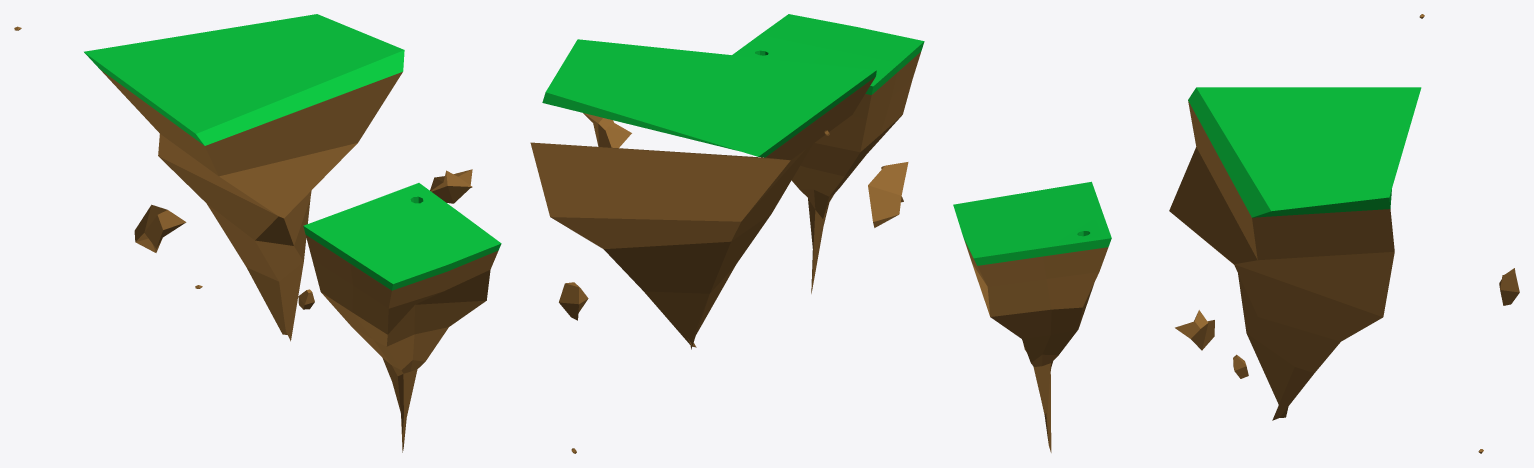
File: Floating Island.glb
The picture shows the model from 3 angles, left to right: view 1: azimuth 30°, elevation 25°; view 2: azimuth 150°, elevation 25°; view 3: azimuth 270°, elevation 25°; orthographic projection. The views are drawn at different scales.
Visible parts, largest first — view 1: Cube; view 2: Cube; view 3: Cube.
Boxes of the visible parts, box(x1,y1,x2,y2) form: Cube: box(14, 14, 501, 452); Cube: box(530, 14, 924, 453); Cube: box(953, 14, 1519, 453).
Bounding box in the file's own units: 2.68 × 2.51 × 3.78.
